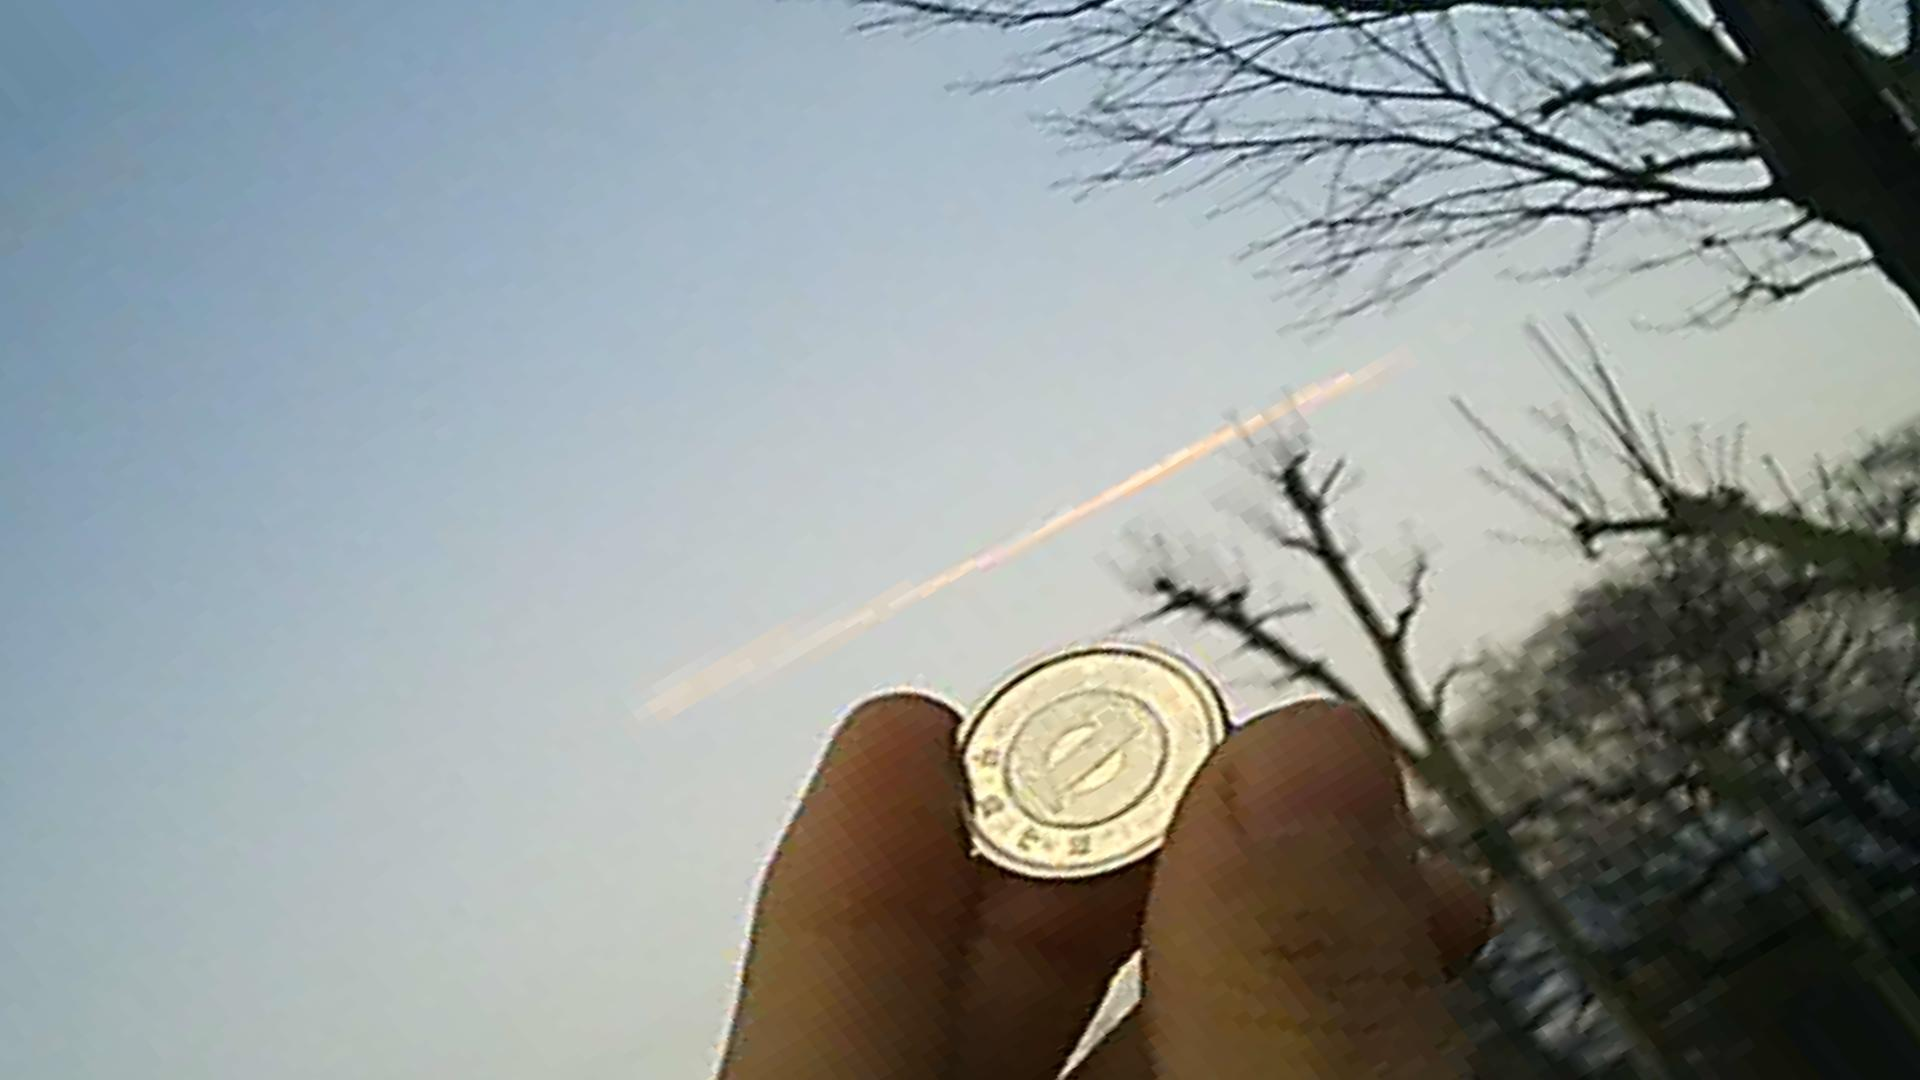1 Yen: (957, 640, 1234, 872)
